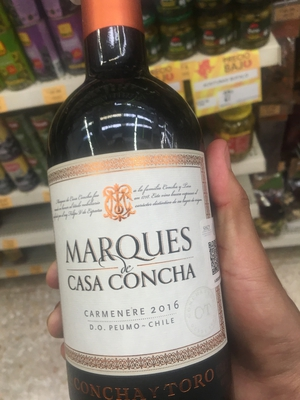marques de casa concha carmenere: (49, 27, 232, 400)
